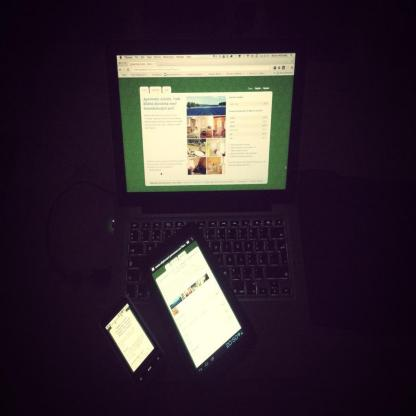board: (110, 47, 309, 368)
